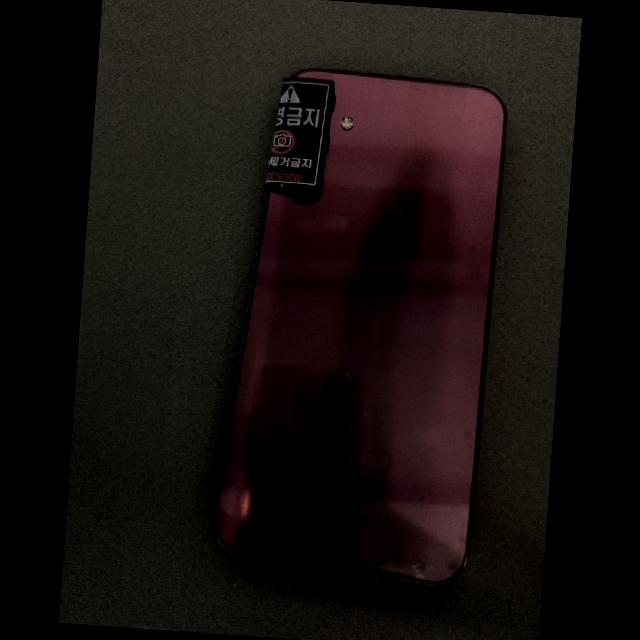lens: (288, 190, 317, 198)
phone: (213, 68, 506, 583)
sticker: (264, 77, 335, 191)
